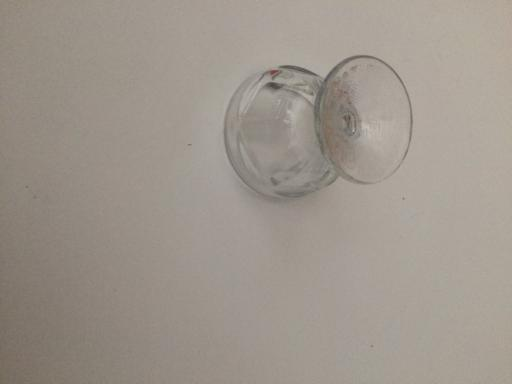glass: (221, 53, 414, 203)
